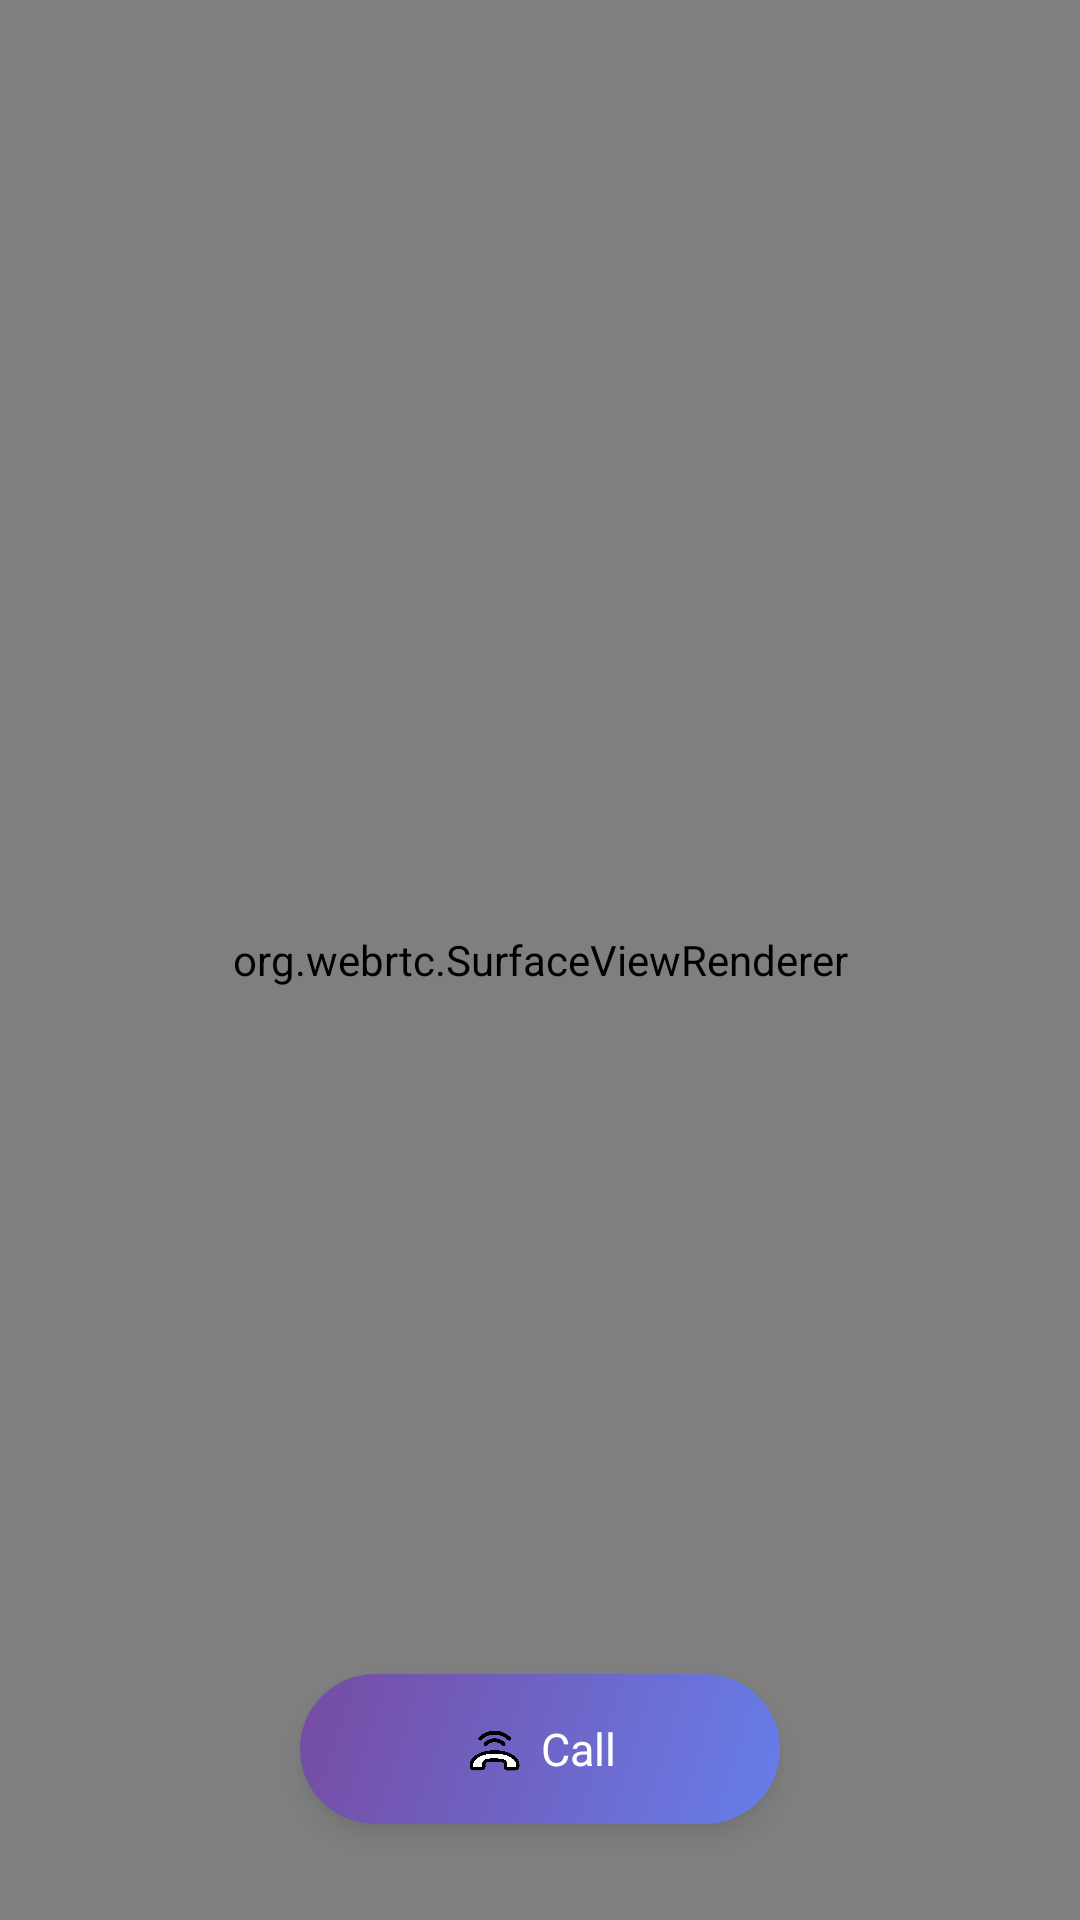

Named icons in this screenshot (1080×1920) and their bounding boxes, [x1,y1,x2,y2]:
Start/End Realtime Interaction: [470,1731,520,1771]
